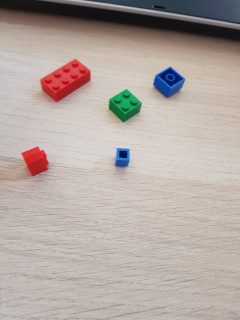1x1 blue: (114, 147, 132, 167)
1x2 red: (21, 147, 49, 177)
2x2 blue: (153, 66, 185, 97)
2x2 green: (109, 88, 142, 121)
2x4 red: (40, 57, 91, 99)
